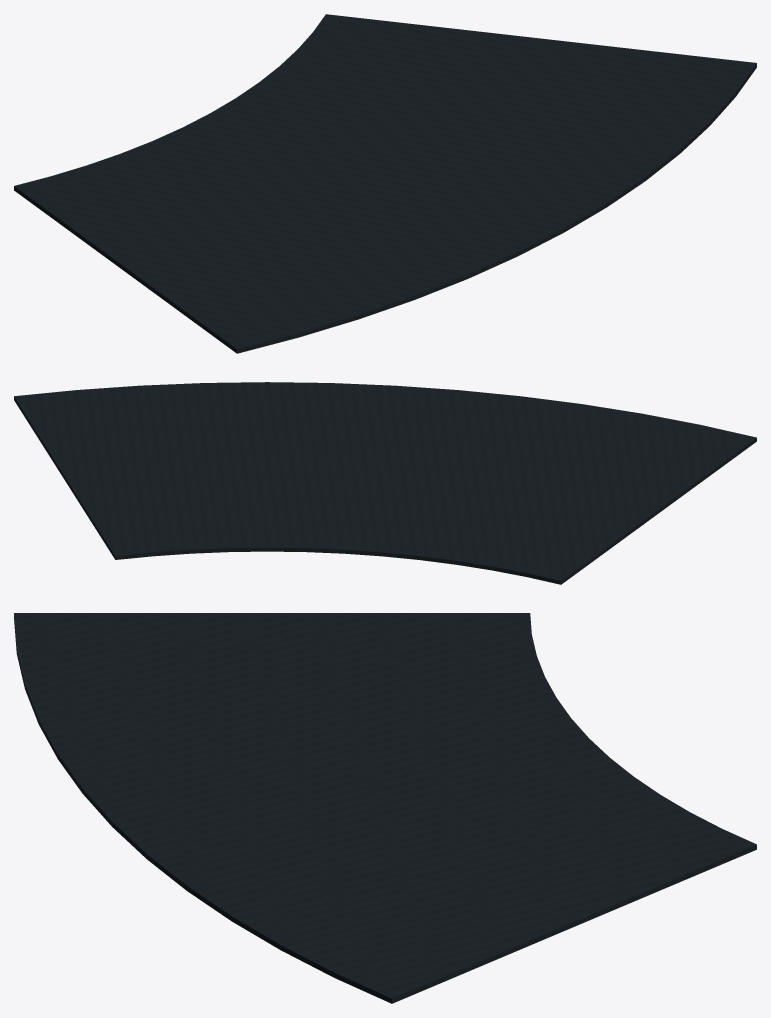
File: Transit_Road_6L_Curve45_R36_Surface.glb
3 renders of one model, top to bottom at view 1: azimuth 30°, elevation 25°; view 2: azimuth 150°, elevation 25°; view 3: azimuth 270°, elevation 25°, orthographic. The views are drawn at different scales.
Parts seen in each view (by area): view 1: Transit_Road_6L_Curve45_R36_Surface; view 2: Transit_Road_6L_Curve45_R36_Surface; view 3: Transit_Road_6L_Curve45_R36_Surface.
Boxes of the visible parts, bbox=[...] form: Transit_Road_6L_Curve45_R36_Surface: bbox=[14, 14, 756, 353]; Transit_Road_6L_Curve45_R36_Surface: bbox=[14, 382, 756, 584]; Transit_Road_6L_Curve45_R36_Surface: bbox=[14, 613, 756, 1003].
Size of the model in its own units: 31.82 by 0.2 by 25.91.
Materials: 1 (1 with a texture image).
